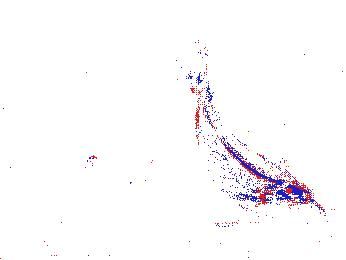glassfish: (190, 57, 313, 206)
